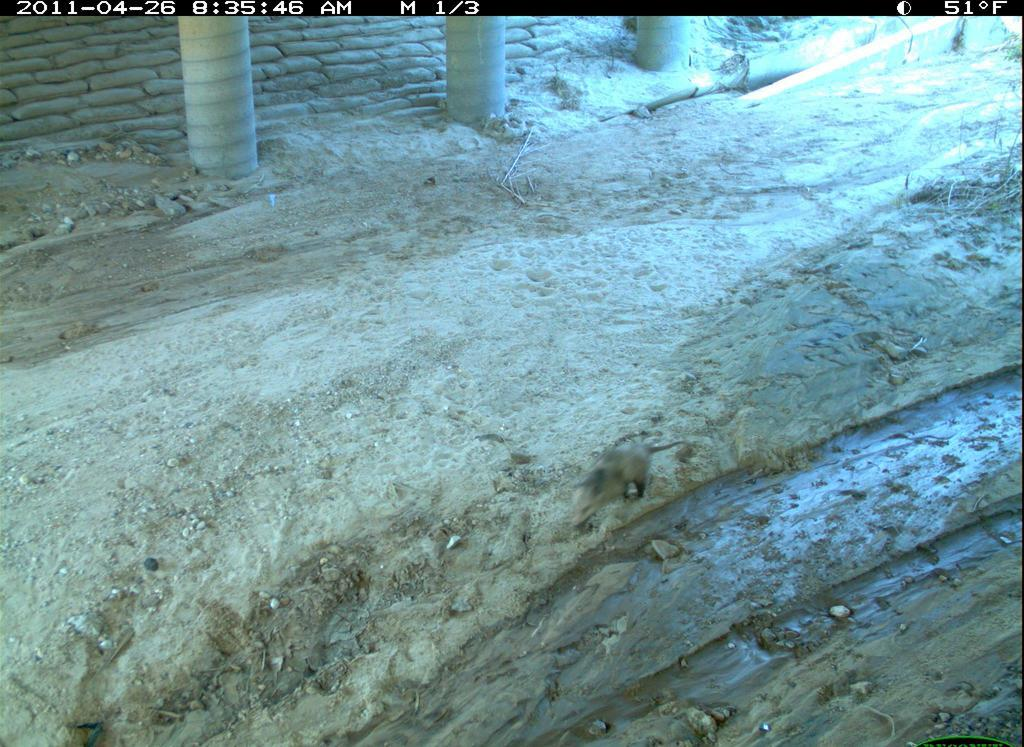opossum: (555, 425, 694, 539)
